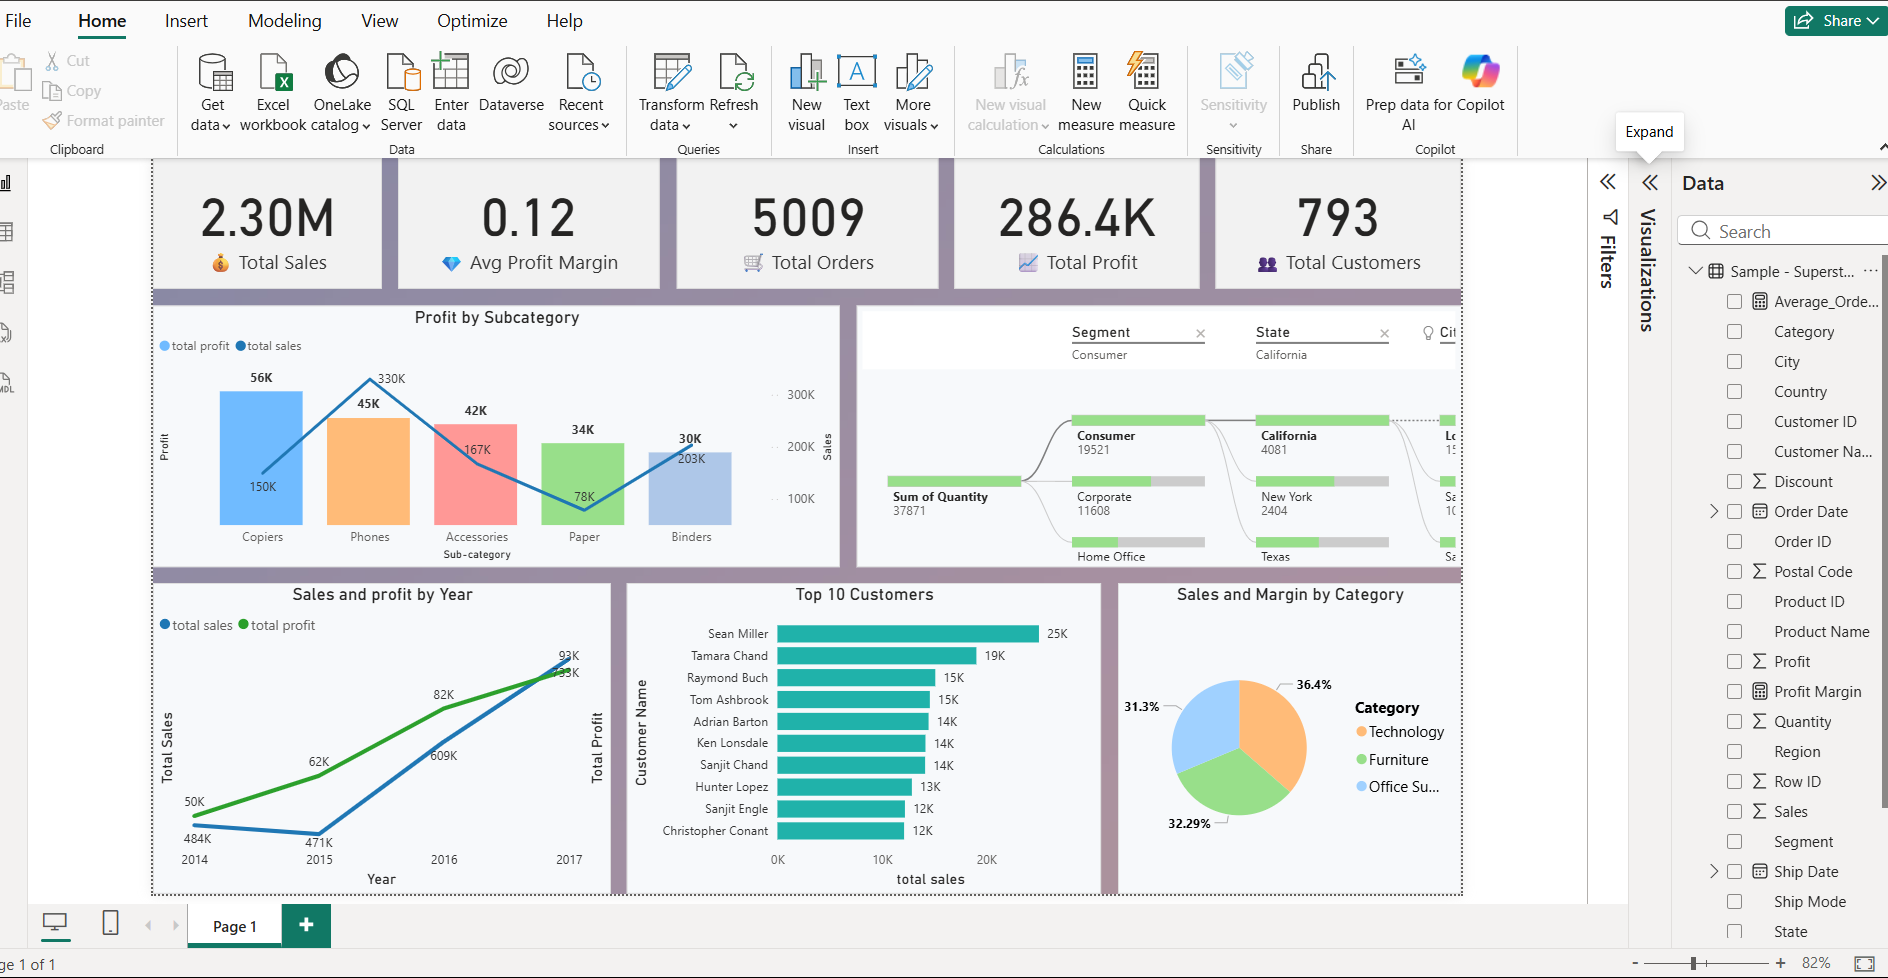

What the dashboard file says about the page in this screenshot:
{"tool":"powerbi","page":{"name":"Page 1","canvas":[1280,720],"ordinal":0},"visuals":[{"type":"card","fields":{"Values":["Sample - Superstore.total profit"]},"box":[784,0,240,128],"z":0},{"type":"card","fields":{"Values":["Sample - Superstore.Profit Margin"]},"box":[240,0,256,128],"z":1000},{"type":"card","fields":{"Values":["Sample - Superstore.Total_Customers"]},"box":[1040,0,240,128],"z":2000},{"type":"card","fields":{"Values":["Sample - Superstore.Total_Orders"]},"box":[512,0,256,128],"z":3000},{"type":"lineChart","title":"Sales and profit by Year","fields":{"Category":["Sample - Superstore.Order Date.Variation.Date Hierarchy.Year","Sample - Superstore.Order Date.Variation.Date Hierarchy.Quarter","Sample - Superstore.Order Date.Variation.Date Hierarchy.Month","Sample - Superstore.Order Date.Variation.Date Hierarchy.Day"],"Y":["Sample - Superstore.total sales"],"Y2":["Sample - Superstore.total profit"]},"box":[0,416,448,304],"z":4000},{"type":"clusteredBarChart","title":"Top 10 Customers","fields":{"Y":["Sample - Superstore.total sales"],"Category":["Sample - Superstore.Customer Name"]},"box":[464,416,464,304],"z":5000},{"type":"lineClusteredColumnComboChart","title":"Profit by Subcategory ","fields":{"Category":["Sample - Superstore.Sub-Category"],"Y2":["Sample - Superstore.total sales"],"Y":["Sample - Superstore.total profit"]},"box":[0,144,672,256],"z":6000},{"type":"pieChart","title":"Sales and Margin by Category","fields":{"Category":["Sample - Superstore.Category"],"Y":["Sample - Superstore.total sales"]},"box":[944,416,336,304],"z":7000},{"type":"card","fields":{"Values":["Sample - Superstore.total sales"]},"box":[0,0,224,128],"z":8000},{"type":"decompositionTreeVisual","fields":{"Analyze":["Sample - Superstore.Quantity"],"ExplainBy":["Sample - Superstore.Segment","Sample - Superstore.State","Sample - Superstore.City"]},"box":[688,144,592,256],"z":9000}]}

Visuals, with their boxes on the page's 1280x720 design canvas (x1, y1, x2, y2). These are canvas units, not pixel positions in the 1888x978 screenshot, which may show the page scaled, cropped or inside an application window:
card - Sample - Superstore.total profit: box(784, 0, 1024, 128)
card - Sample - Superstore.Profit Margin: box(240, 0, 496, 128)
card - Sample - Superstore.Total_Customers: box(1040, 0, 1280, 128)
card - Sample - Superstore.Total_Orders: box(512, 0, 768, 128)
"Sales and profit by Year" lineChart: box(0, 416, 448, 720)
"Top 10 Customers" clusteredBarChart: box(464, 416, 928, 720)
"Profit by Subcategory " lineClusteredColumnComboChart: box(0, 144, 672, 400)
"Sales and Margin by Category" pieChart: box(944, 416, 1280, 720)
card - Sample - Superstore.total sales: box(0, 0, 224, 128)
decompositionTreeVisual - Sample - Superstore.Quantity x Sample - Superstore.Segment: box(688, 144, 1280, 400)
